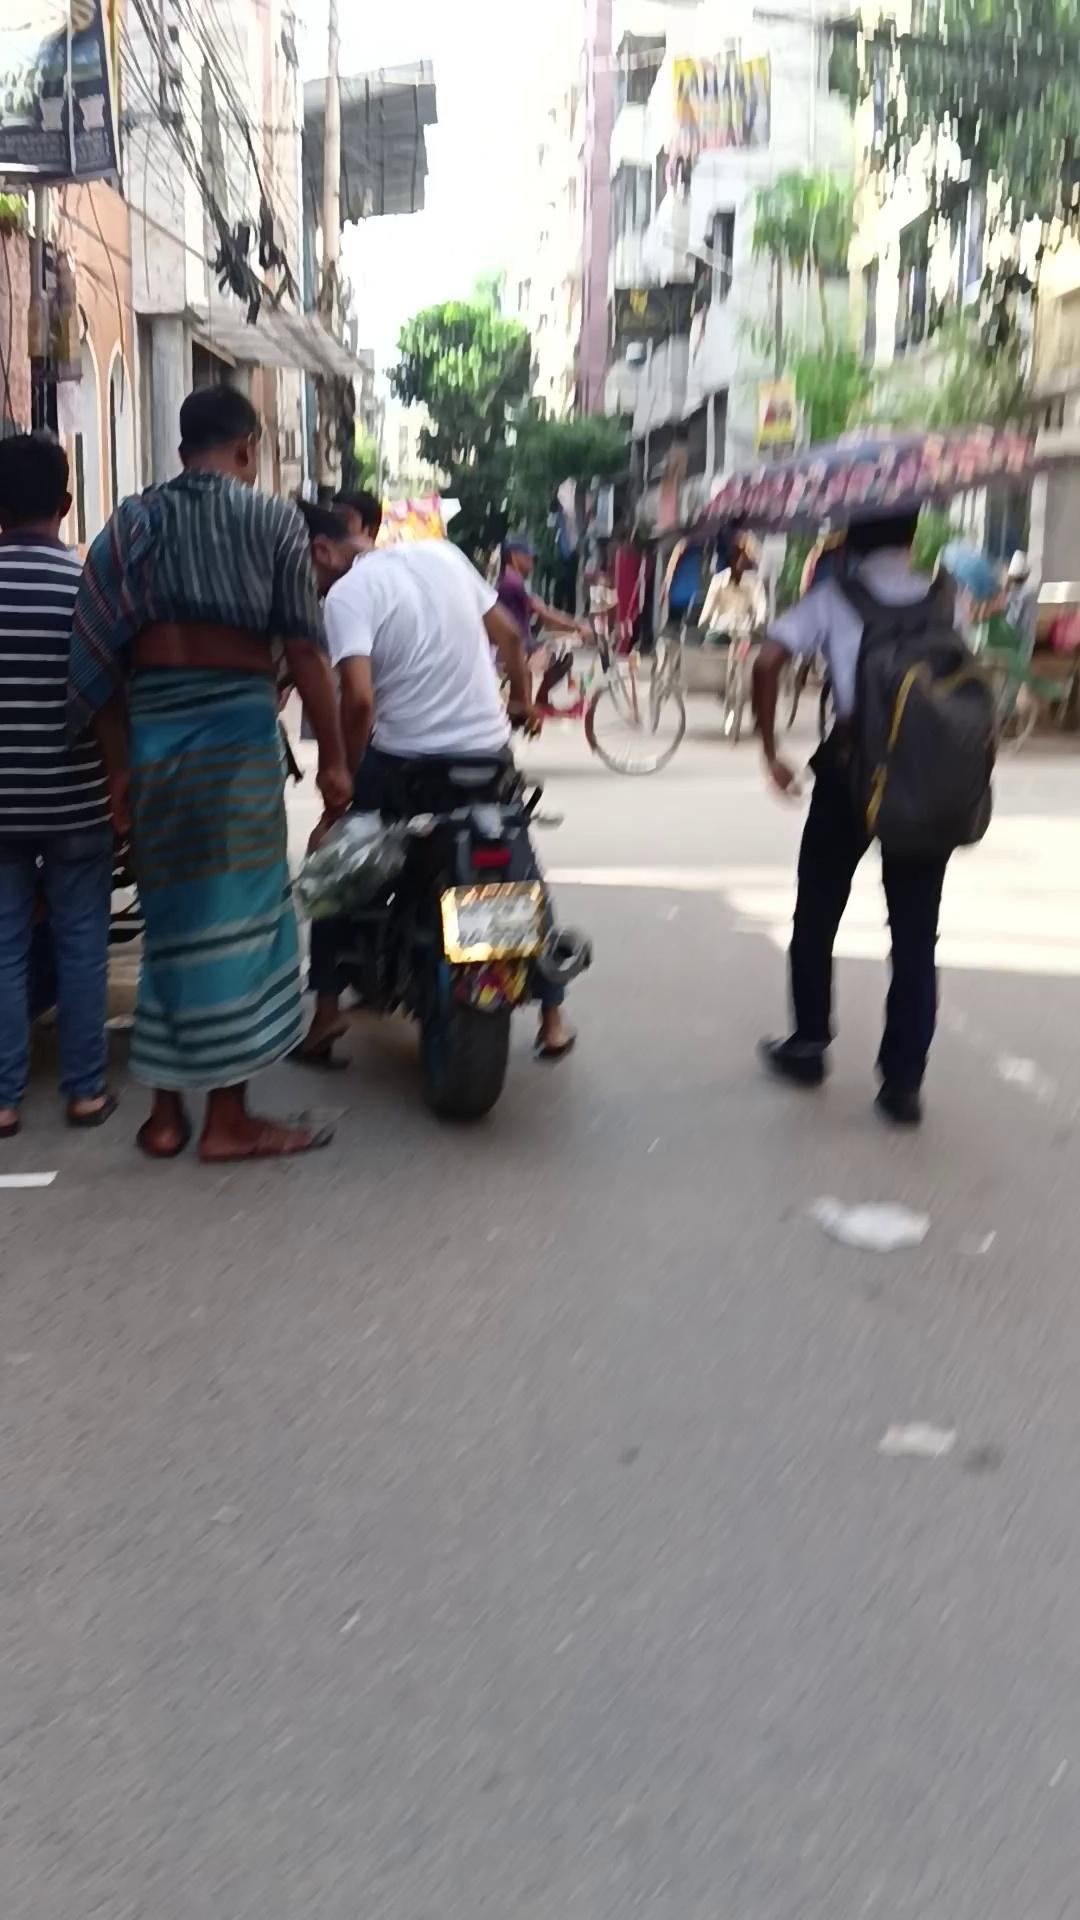Light-pole: (301, 707, 592, 1124)
Muddy road: (65, 382, 353, 1163), (752, 495, 998, 1125), (0, 430, 128, 1138), (491, 535, 593, 716)
